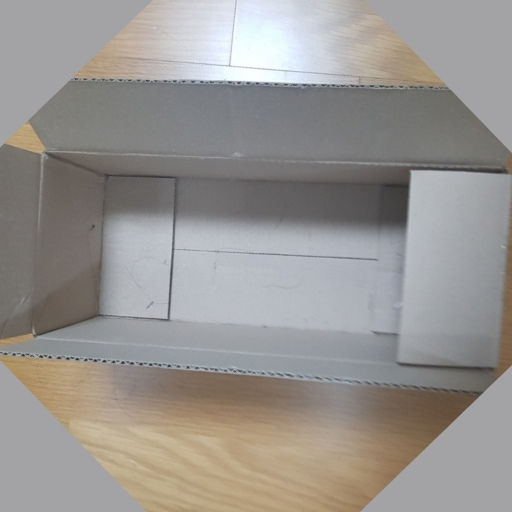Paper_0: (1, 74, 512, 401)
